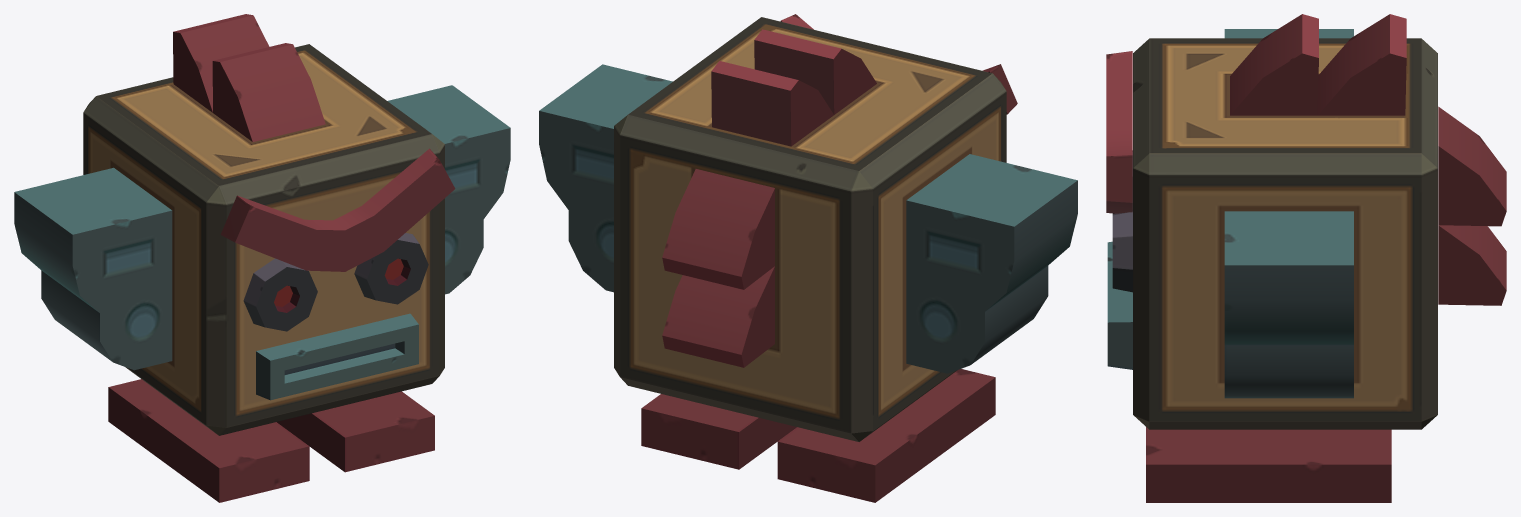
The model's file is G_017_RemainsMonster.FBX.
3 renders of one model, left to right at view 1: azimuth 30°, elevation 25°; view 2: azimuth 150°, elevation 25°; view 3: azimuth 270°, elevation 25°, orthographic. The views are drawn at different scales.
Parts seen in each view (by area): view 1: G_017_body, G_017_foot_R, G_017_foot_L; view 2: G_017_body, G_017_foot_R, G_017_foot_L; view 3: G_017_body, G_017_foot_L.
Part boxes in pixels (x1,y1,x2,y2): G_017_body: (14, 14, 510, 435); G_017_foot_R: (108, 379, 309, 502); G_017_foot_L: (277, 391, 434, 472); G_017_body: (539, 14, 1077, 441); G_017_foot_R: (777, 369, 995, 502); G_017_foot_L: (641, 394, 796, 469); G_017_body: (1106, 14, 1506, 429); G_017_foot_L: (1146, 427, 1391, 502).
Bounding box in the file's own units: 161 × 130 × 115.
